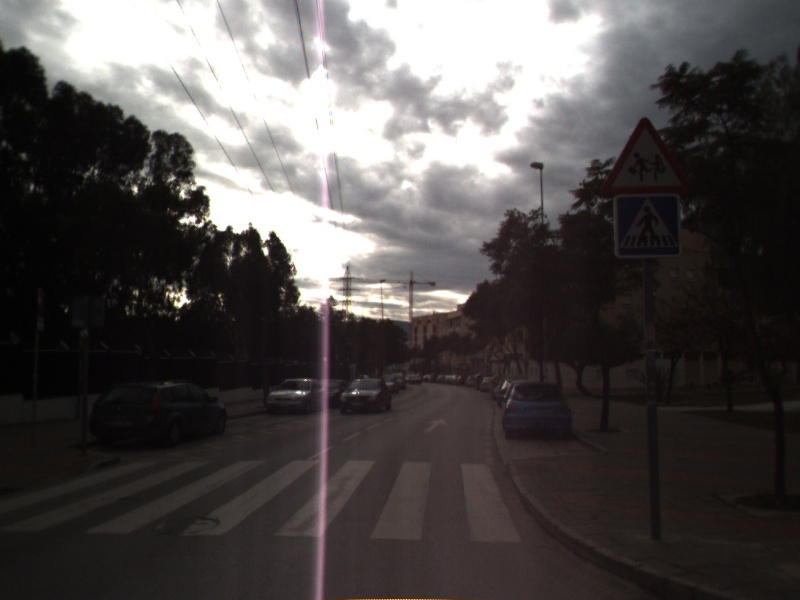STRAIGHT: (421, 417, 450, 435)
